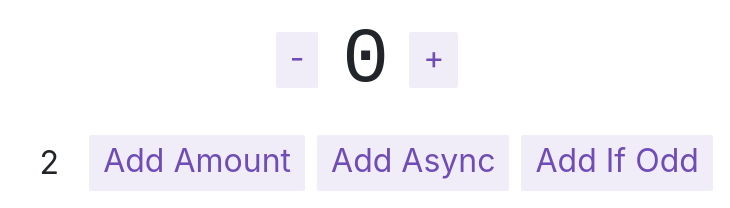
Counter › adds the entered amount
Replace the text in the field named "Set increment amount" with "5" at (49,163), box top-left (17, 137), bottom-right (81, 189)
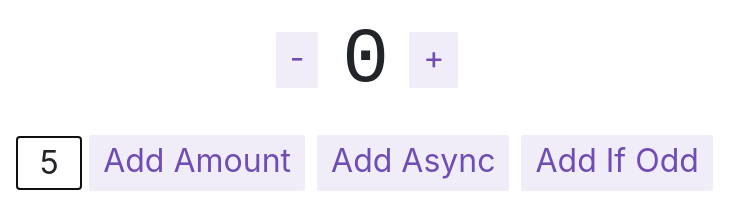
Click the button "Add Amount" at (197,163), box top-left (89, 135), bottom-right (305, 191)
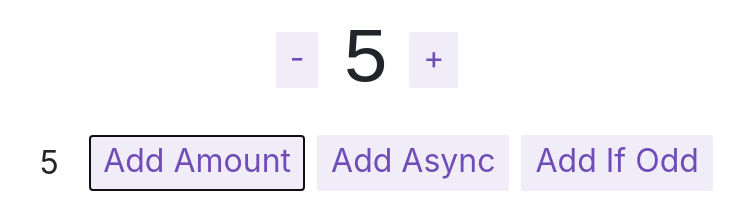
Expected: the text "5" is shown, top-left (342, 16), bottom-right (389, 104)
